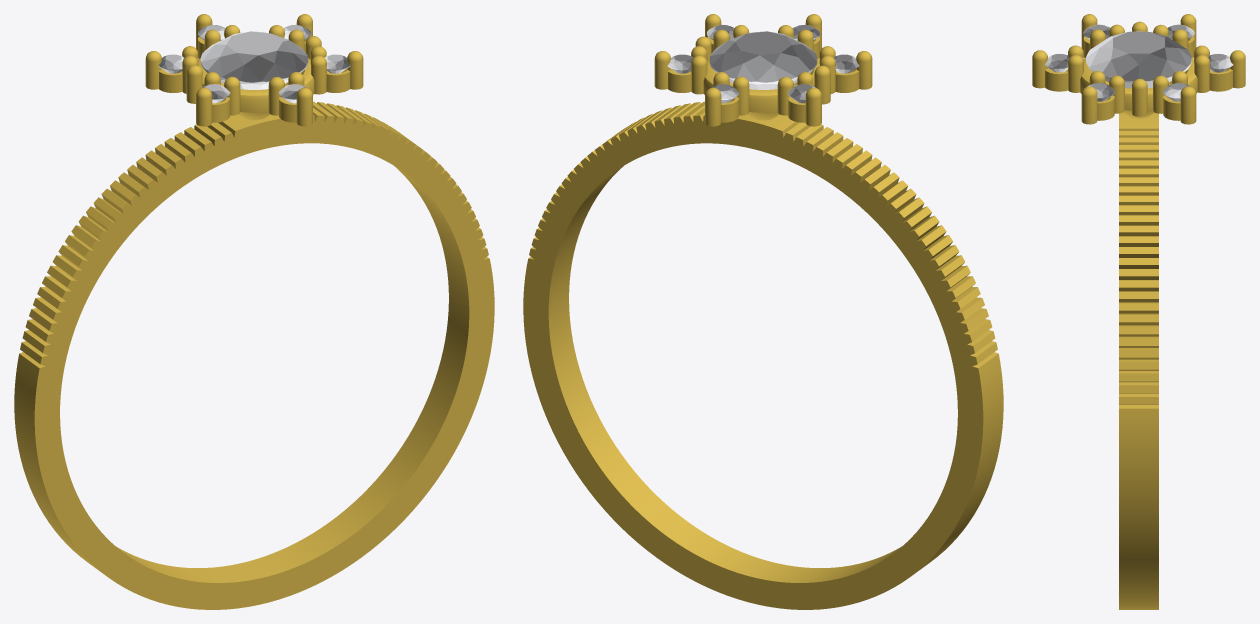
File: anel.glb
3 views of the same model, side by side, from view 1: azimuth 30°, elevation 25°; view 2: azimuth 150°, elevation 25°; view 3: azimuth 270°, elevation 25° (orthographic).
Parts seen in each view (by area): view 1: Tube001; view 2: Tube001; view 3: Tube001.
Part boxes in pixels (x1,y1,x2,y2): Tube001: (14, 14, 494, 609); Tube001: (523, 14, 1003, 609); Tube001: (1032, 14, 1245, 609).
Bounding box in the file's own units: 0.0536 × 0.0615 × 0.0219.
